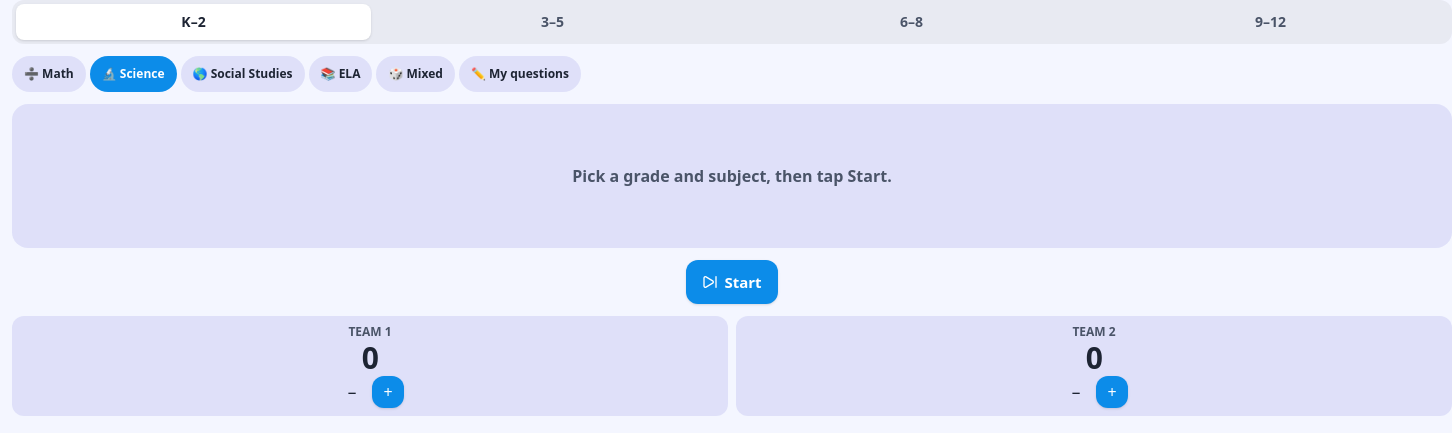
Quick Fact Game widget › shows a question for the chosen grade and subject, reveals the answer, and scores teams
Click the button "Start" at (732, 282), box top-left (686, 260), bottom-right (778, 304)
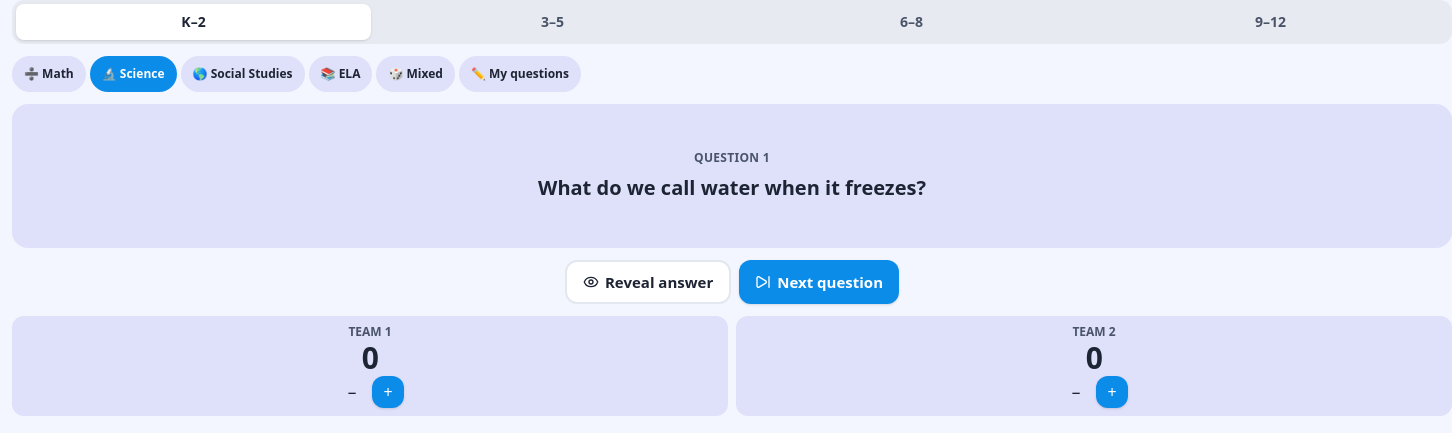
Click the button "Reveal answer" at (648, 282), box top-left (565, 260), bottom-right (731, 304)
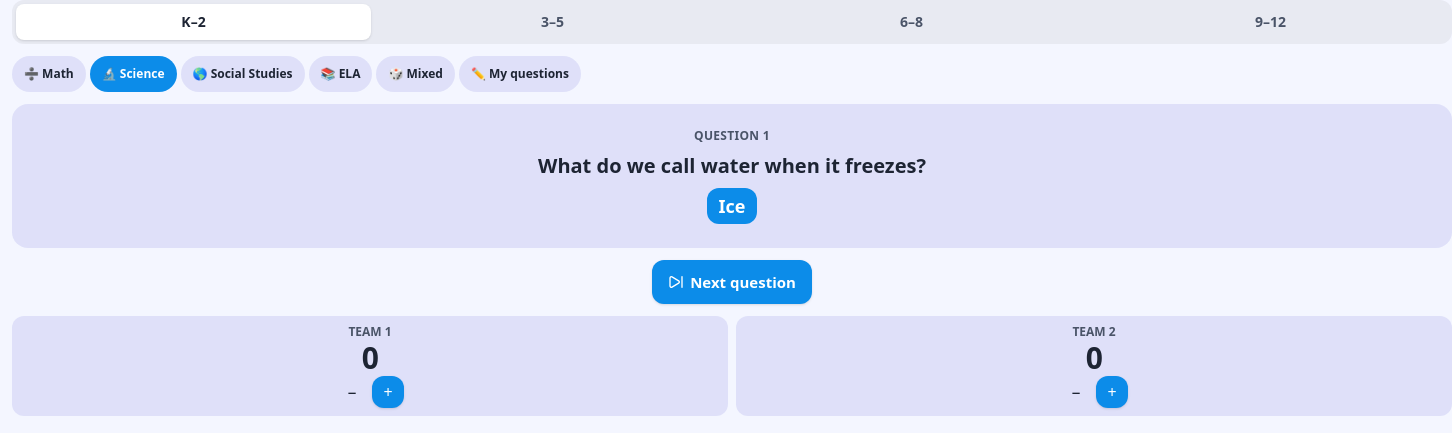
Click the button named "Add a point to Team 1" at (388, 392), box top-left (372, 376), bottom-right (404, 408)
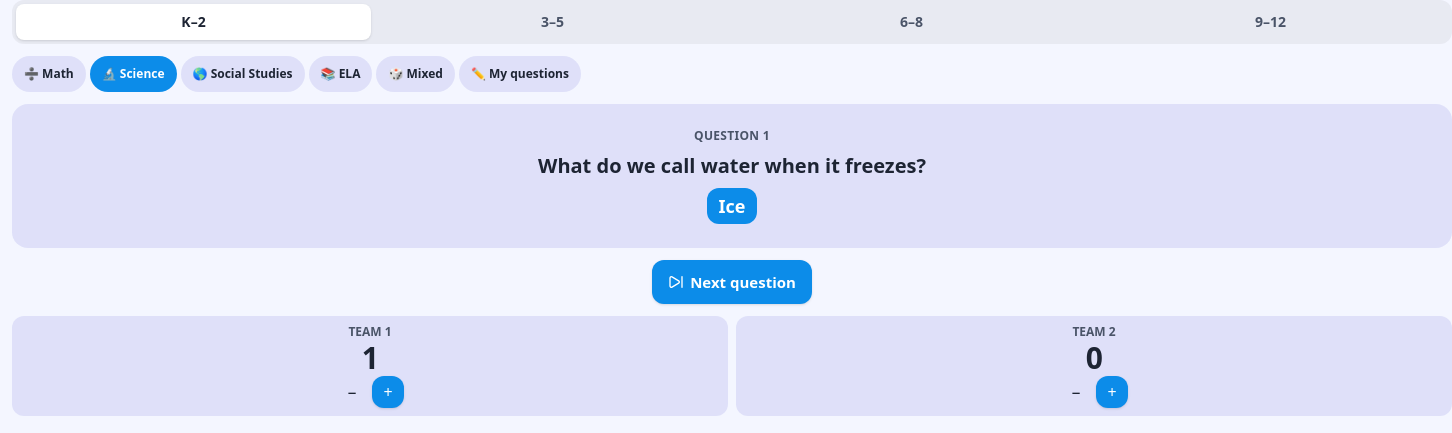
Check: the text with test id "quiz-score-0" reads "1", box top-left (362, 337), bottom-right (378, 378)
Note: Switching subject starts a new set.
Click the radio button labelled "📚 ELA" at (340, 74), box top-left (308, 56), bottom-right (372, 92)
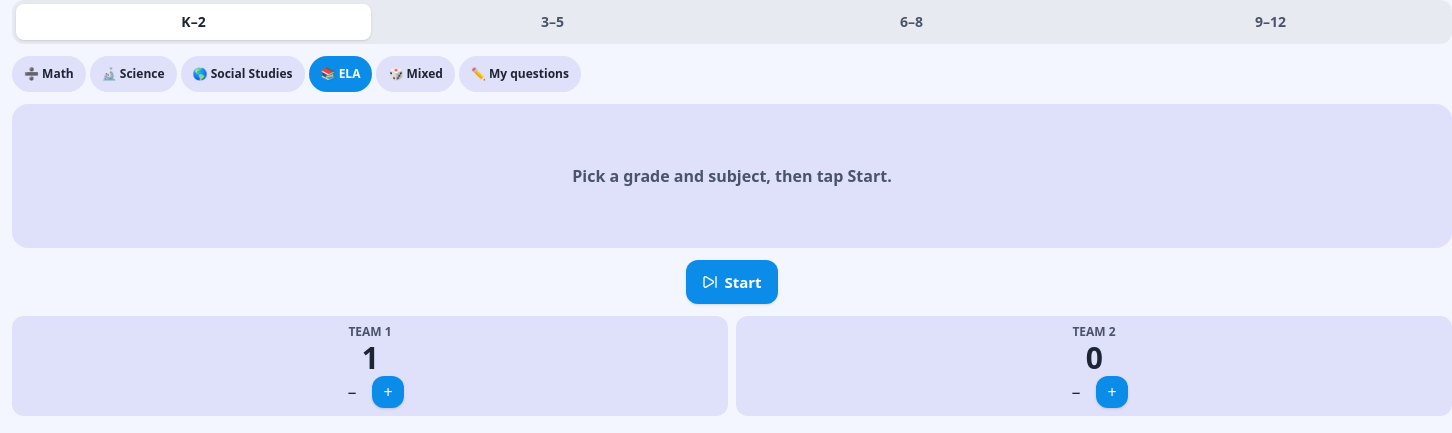
Check: the text with test id "quiz-question" is gone
